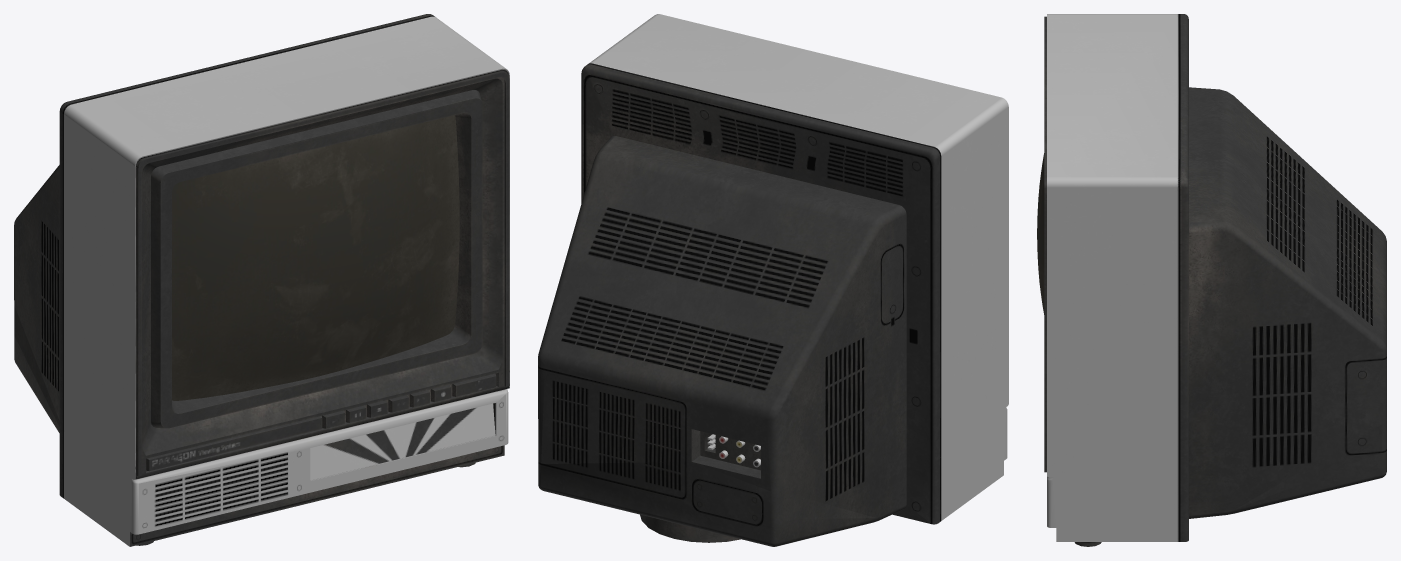
Rendered from security_tv.glb.
3 renders of one model, left to right at view 1: azimuth 30°, elevation 25°; view 2: azimuth 150°, elevation 25°; view 3: azimuth 270°, elevation 25°, orthographic. The views are drawn at different scales.
Parts seen in each view (by area): view 1: television_02; view 2: television_02; view 3: television_02.
Part boxes in pixels (x1=…): television_02: x1=14, y1=14, x2=509, y2=546; television_02: x1=538, y1=14, x2=1008, y2=546; television_02: x1=1037, y1=14, x2=1386, y2=546.
Size of what is drawn, in the model's own units: 0.3997 by 0.4114 by 0.3502.
Materials: 1 (1 with a texture image).
